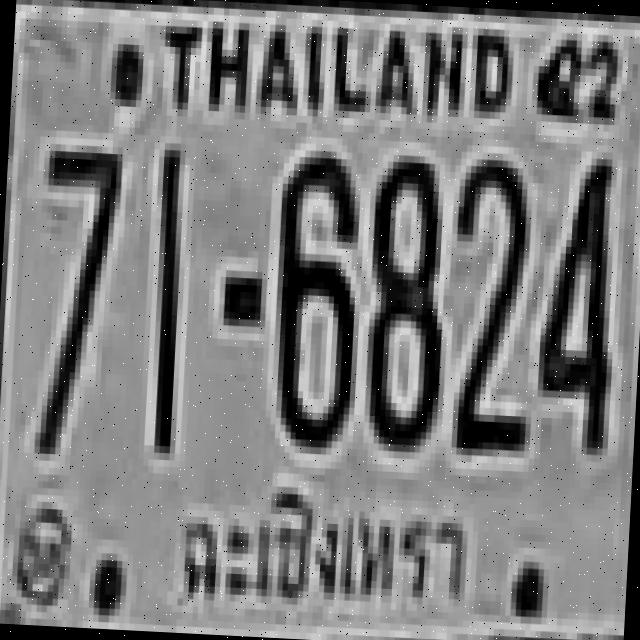2: (445, 152, 532, 417)
4: (530, 150, 618, 448)
6: (267, 146, 360, 446)
7: (34, 144, 119, 354), (36, 143, 118, 320)
8: (358, 148, 446, 446)
Chachoengsao: (150, 472, 475, 636)
